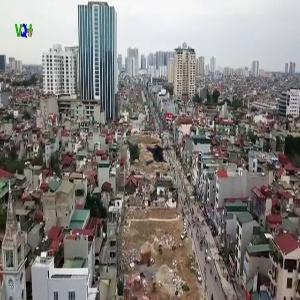drone: (133, 128, 179, 174)
